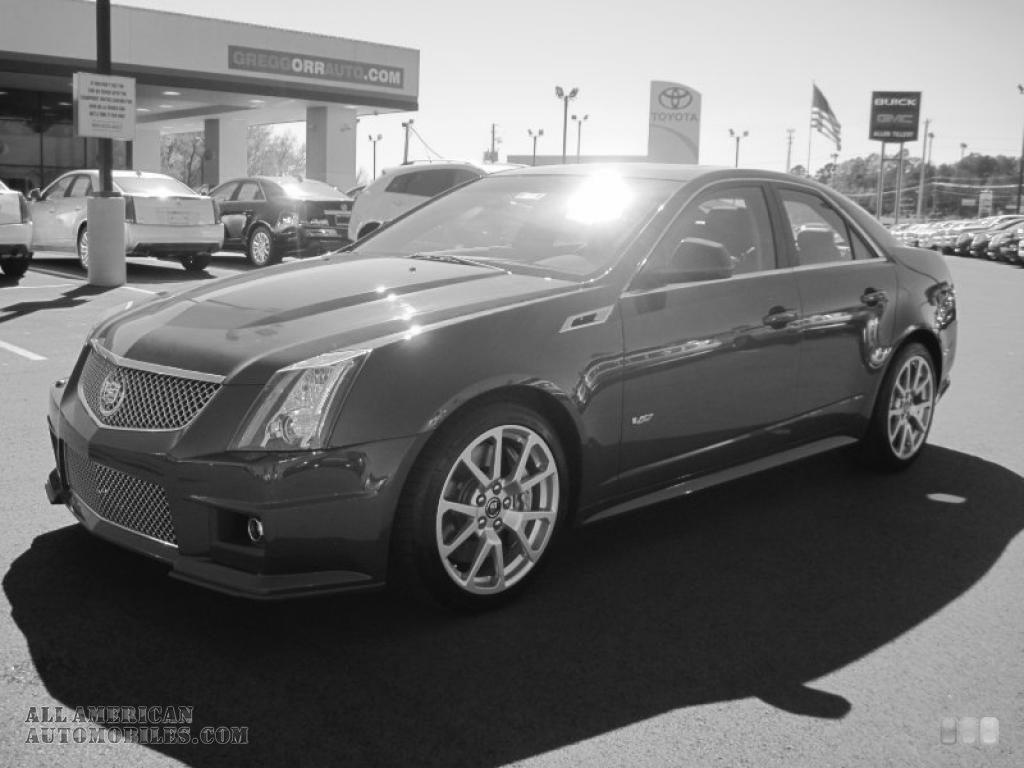car: (43, 166, 961, 606)
